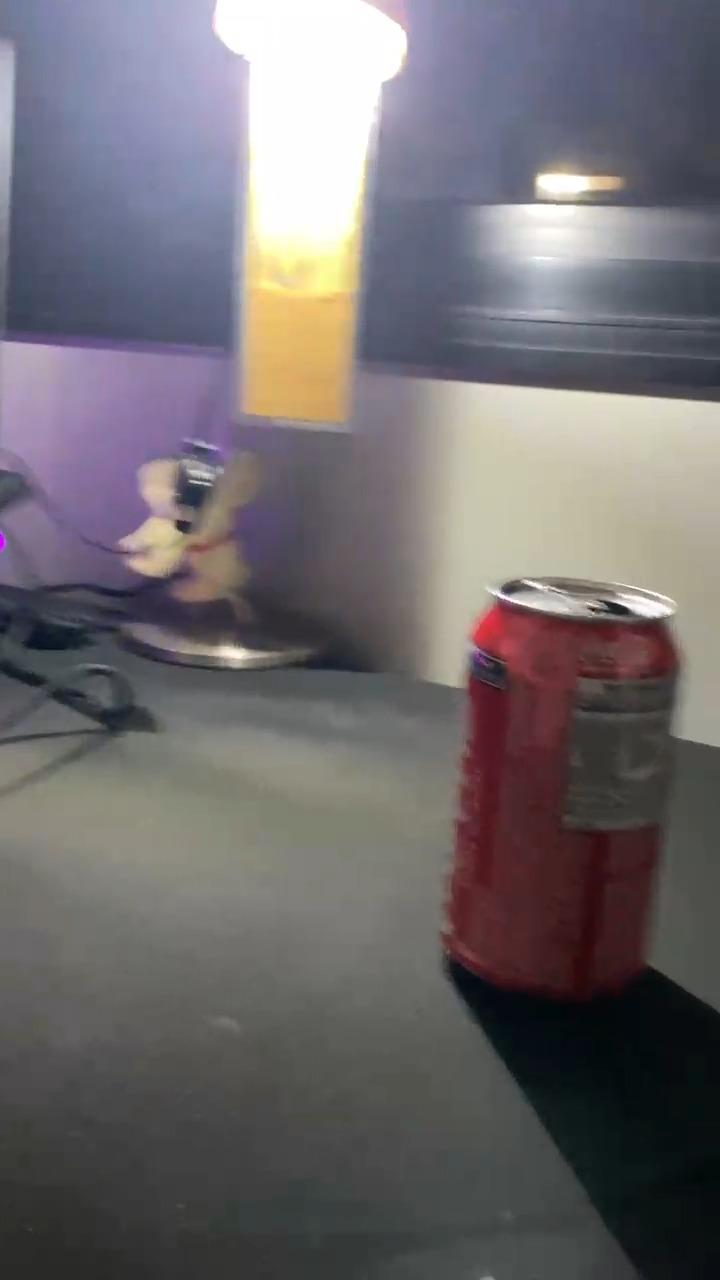coke: (440, 568, 689, 1000)
